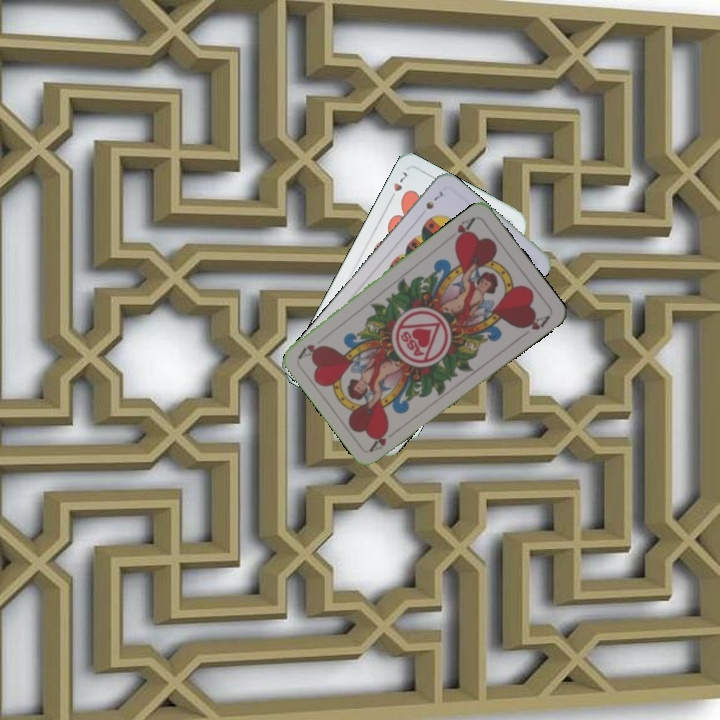H7: (385, 167, 410, 204)
HA: (451, 213, 478, 245), (366, 423, 392, 454)
S7: (422, 185, 448, 212)
